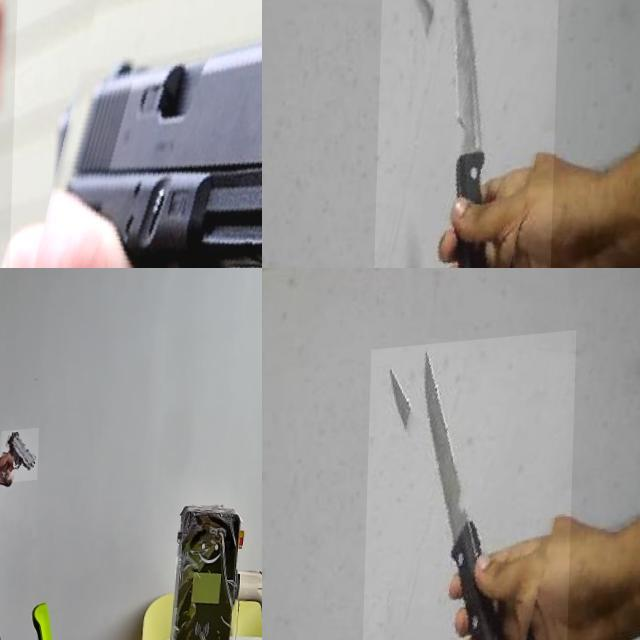-: (363, 339, 577, 640), (374, 0, 560, 268)
gun-knife-thesis - v11 Yolov5 augmented: (5, 0, 262, 268), (1, 435, 40, 490)
